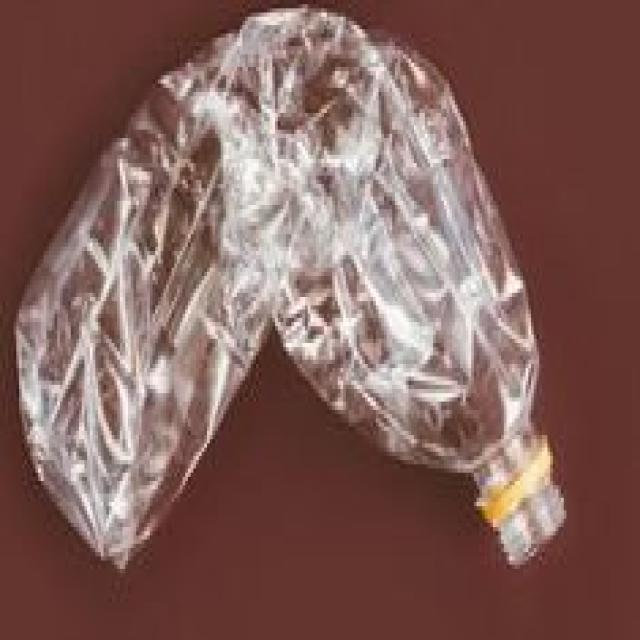general: (11, 0, 566, 569)
